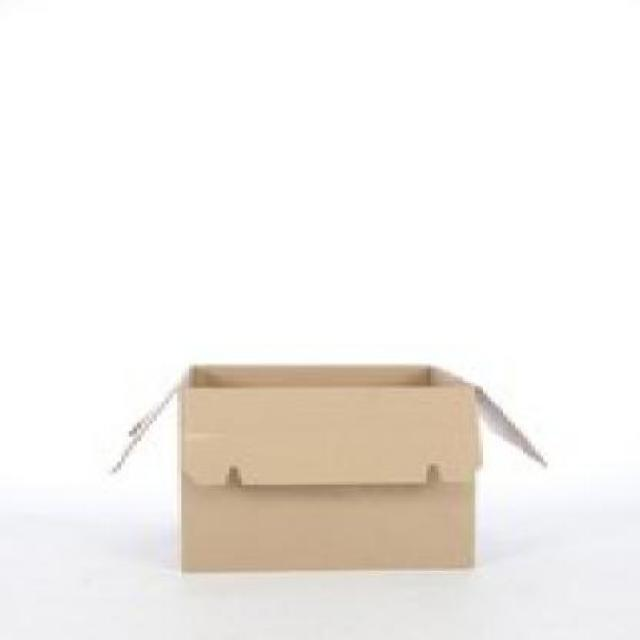box: (99, 357, 544, 575)
